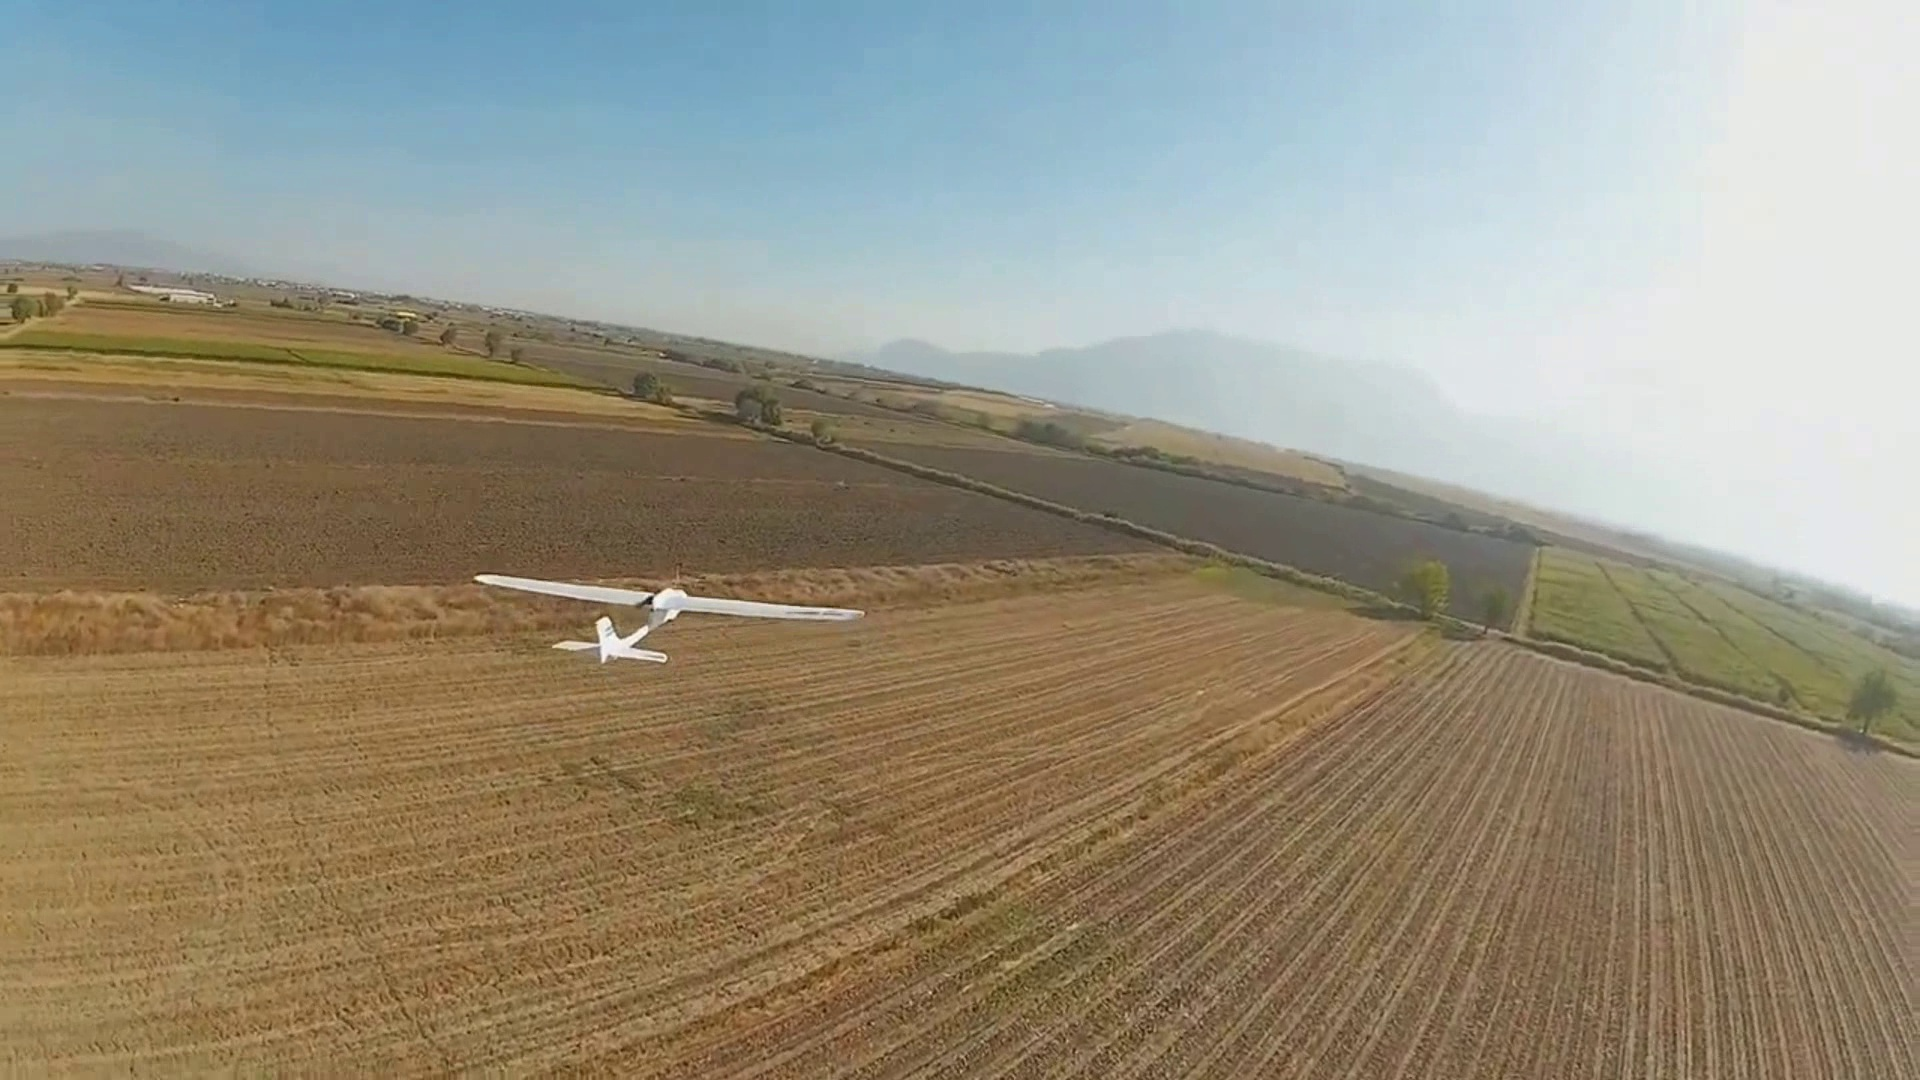airplane: (470, 573, 863, 664)
